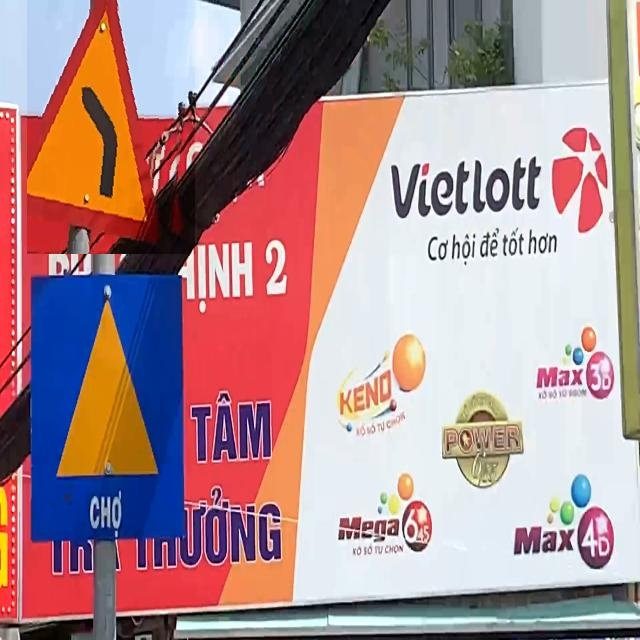bien_nguy_hiem: (27, 0, 195, 254)
